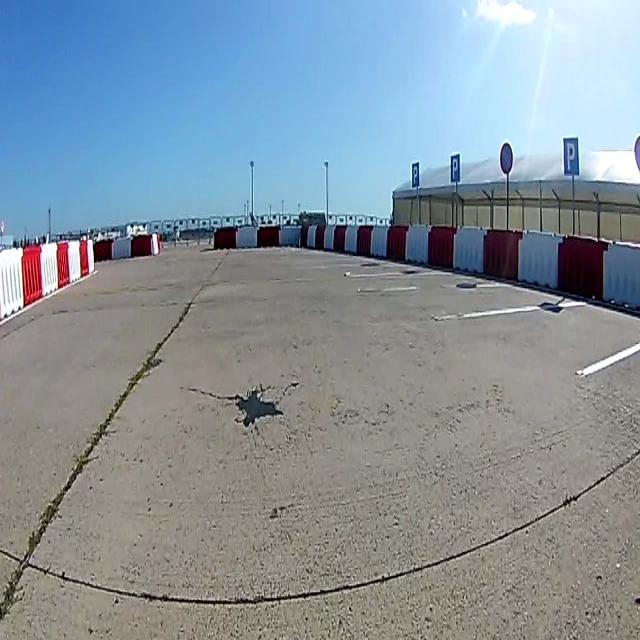park: (563, 136, 579, 176), (450, 154, 460, 183), (411, 162, 419, 188)
parkyasak: (499, 142, 513, 174)
